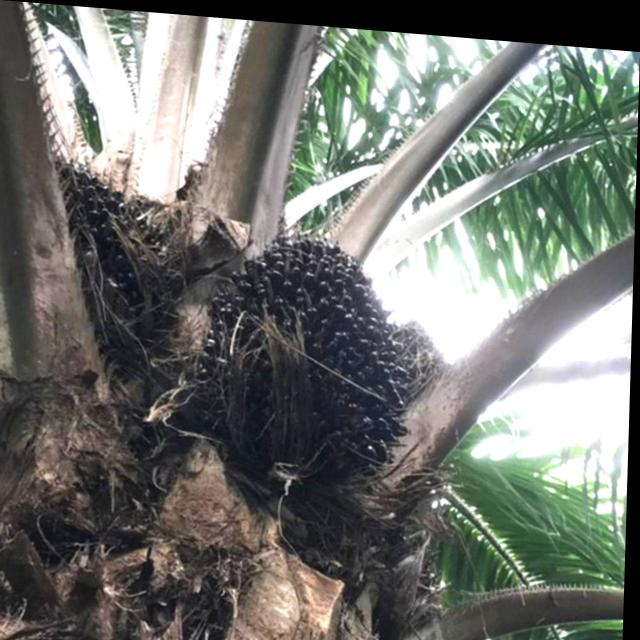almost: (183, 208, 424, 501)
